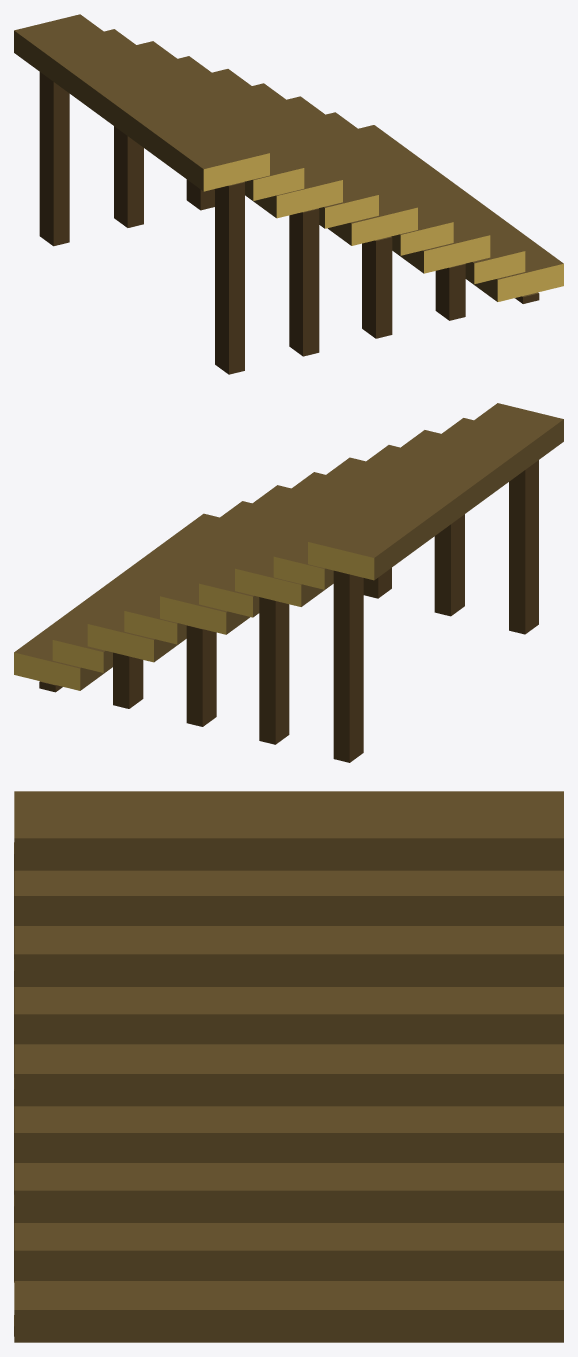
The model's file is Stair.fbx.
3 views of the same model, one above another, from view 1: azimuth 30°, elevation 25°; view 2: azimuth 150°, elevation 25°; view 3: azimuth 270°, elevation 25° (orthographic). The views are drawn at different scales.
Parts seen in each view (by area): view 1: Stair; view 2: Stair; view 3: Stair.
Part boxes in pixels (x1=…): Stair: x1=14, y1=14, x2=563, y2=374; Stair: x1=14, y1=403, x2=563, y2=762; Stair: x1=14, y1=791, x2=563, y2=1342.
Bounding box in the file's own units: 195 × 110 × 178.
